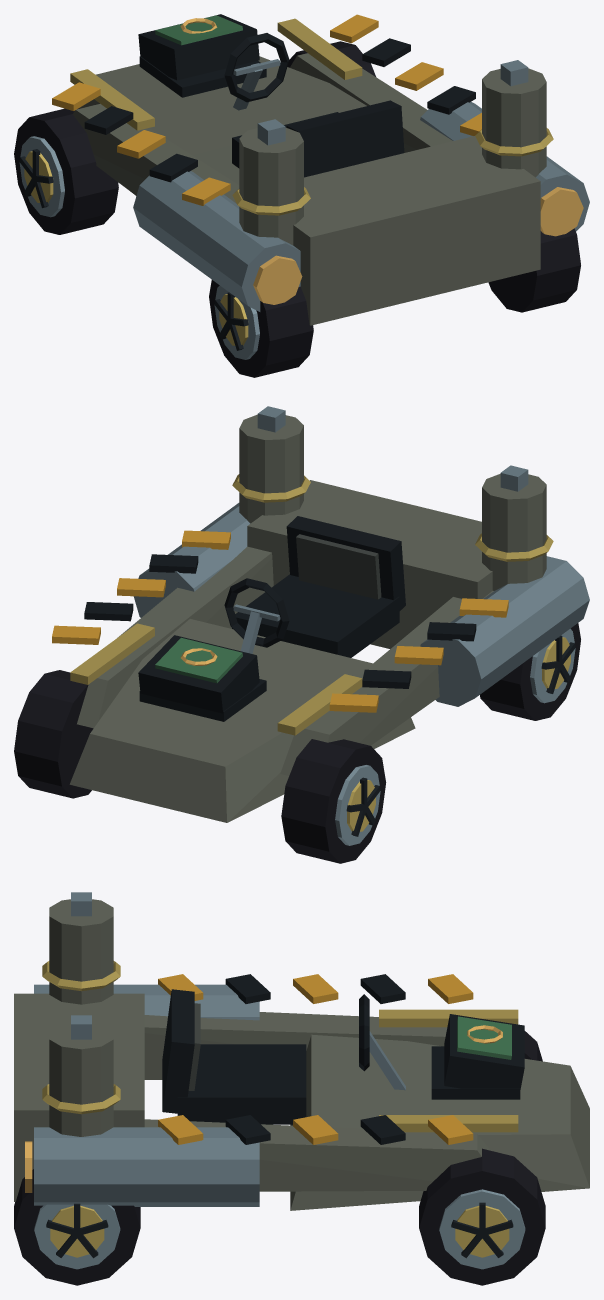
Rendered from kart.glb.
3 views of the same model, one above another, from view 1: azimuth 30°, elevation 25°; view 2: azimuth 150°, elevation 25°; view 3: azimuth 270°, elevation 25° (orthographic). The views are drawn at different scales.
Visible parts, largest first — view 1: identity-lab-pod-lab-pod-segmented-shell, identity-lab-pod-motif-tanks, wheel-front-left, identity-lab-pod-driver-cockpit, identity-lab-pod-motif-hazard-stripes, wheel-rear-left, identity-lab-pod-motif-scanner, wheel-rear-right, wheel-front-right; view 2: identity-lab-pod-lab-pod-segmented-shell, identity-lab-pod-driver-cockpit, identity-lab-pod-motif-tanks, wheel-front-left, identity-lab-pod-motif-hazard-stripes, wheel-front-right, identity-lab-pod-motif-scanner, wheel-rear-left; view 3: identity-lab-pod-lab-pod-segmented-shell, identity-lab-pod-motif-tanks, identity-lab-pod-driver-cockpit, wheel-front-right, wheel-rear-right, identity-lab-pod-motif-hazard-stripes, identity-lab-pod-motif-scanner.
Boxes of the visible parts, x1,y1,x2,y2 form: identity-lab-pod-lab-pod-segmented-shell: [70, 18, 589, 325]; identity-lab-pod-motif-tanks: [232, 60, 553, 245]; wheel-front-left: [14, 108, 118, 234]; identity-lab-pod-driver-cockpit: [224, 33, 404, 177]; identity-lab-pod-motif-hazard-stripes: [52, 14, 481, 205]; wheel-rear-left: [209, 280, 313, 377]; identity-lab-pod-motif-scanner: [138, 14, 259, 80]; wheel-rear-right: [488, 228, 580, 312]; wheel-front-right: [287, 41, 375, 76]; identity-lab-pod-lab-pod-segmented-shell: [69, 480, 589, 822]; identity-lab-pod-driver-cockpit: [224, 516, 405, 657]; identity-lab-pod-motif-tanks: [232, 406, 553, 590]; wheel-front-left: [281, 739, 386, 863]; identity-lab-pod-motif-hazard-stripes: [52, 530, 508, 712]; wheel-front-right: [14, 670, 93, 798]; identity-lab-pod-motif-scanner: [138, 635, 259, 713]; wheel-rear-left: [480, 623, 580, 720]; identity-lab-pod-lab-pod-segmented-shell: [14, 984, 589, 1210]; identity-lab-pod-motif-tanks: [42, 892, 120, 1136]; identity-lab-pod-driver-cockpit: [162, 989, 405, 1124]; wheel-front-right: [419, 1148, 545, 1285]; wheel-rear-right: [14, 1169, 140, 1285]; identity-lab-pod-motif-hazard-stripes: [158, 974, 473, 1144]; identity-lab-pod-motif-scanner: [444, 1014, 524, 1089].
Size of the model in its own units: 1.98 by 1.3 by 2.73.
